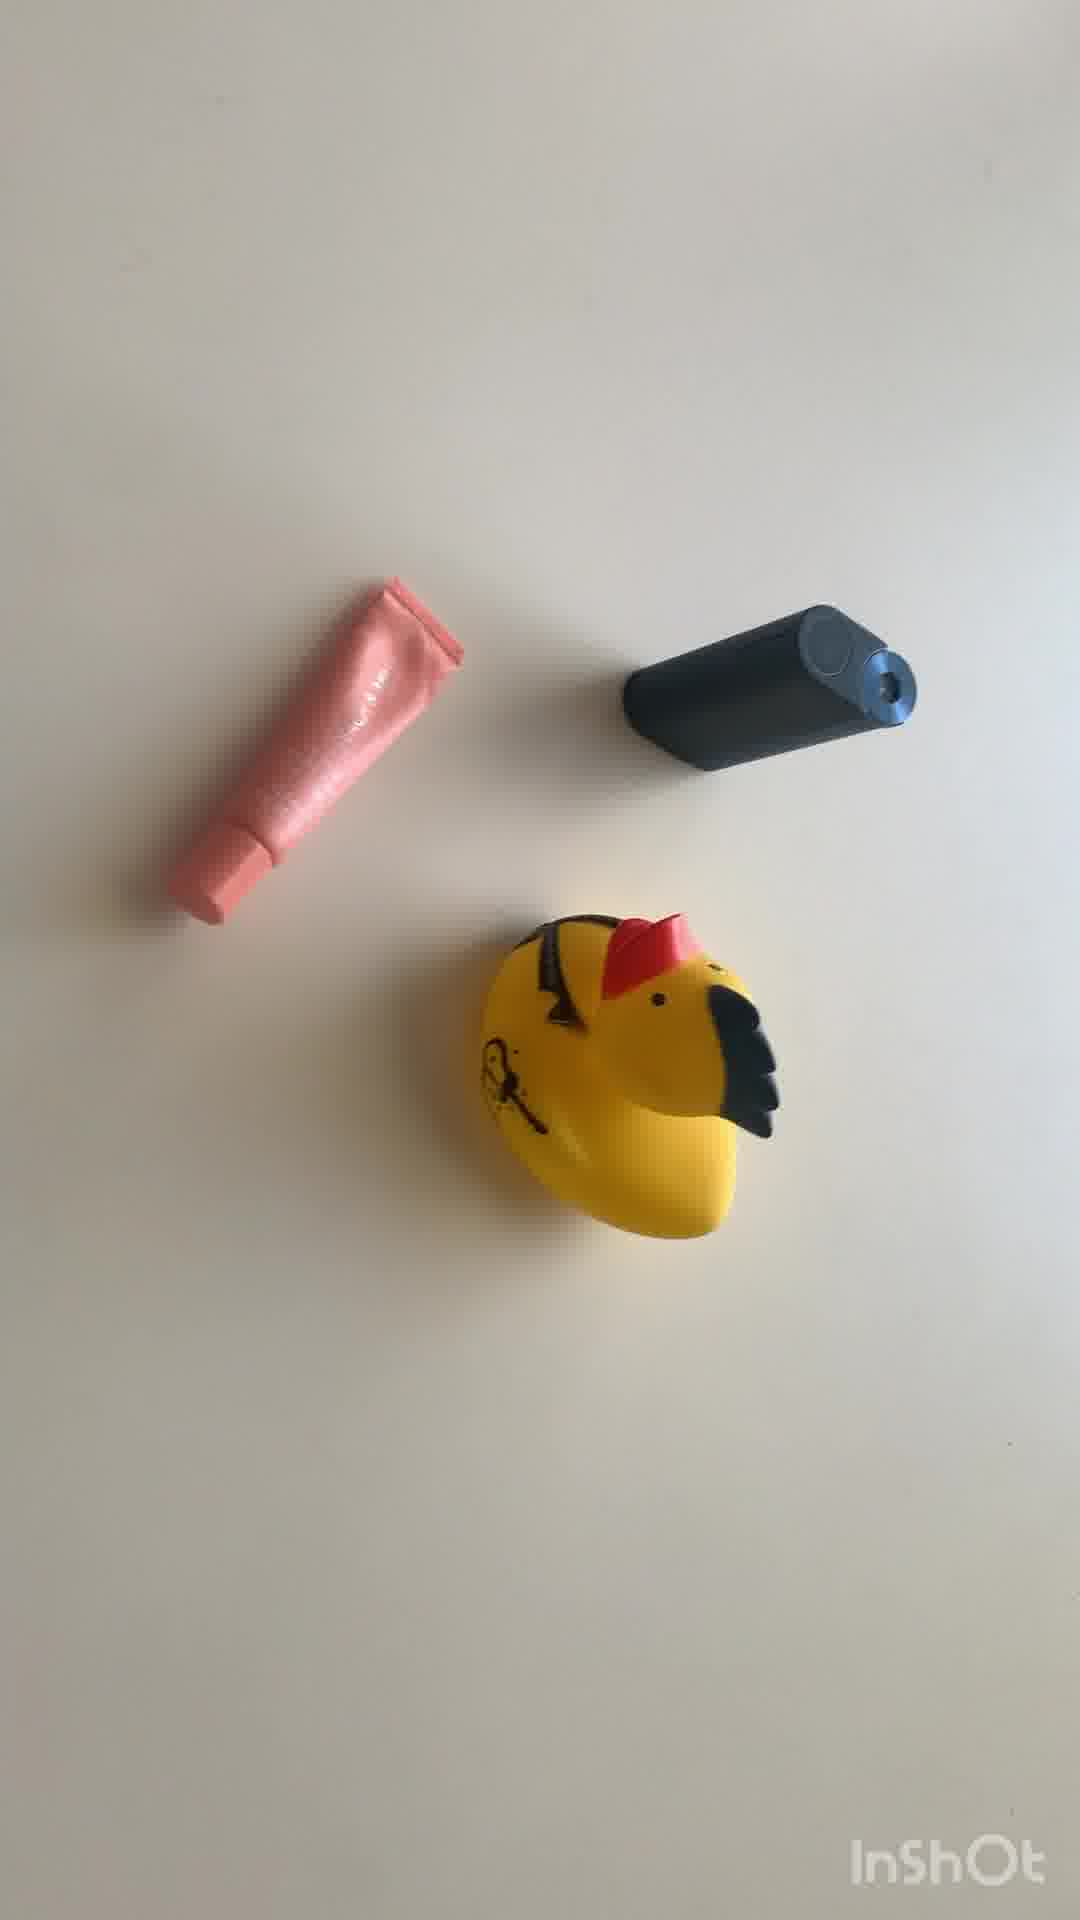duck: (472, 916, 777, 1228)
glo: (621, 603, 920, 777)
lip balm: (167, 582, 459, 934)
